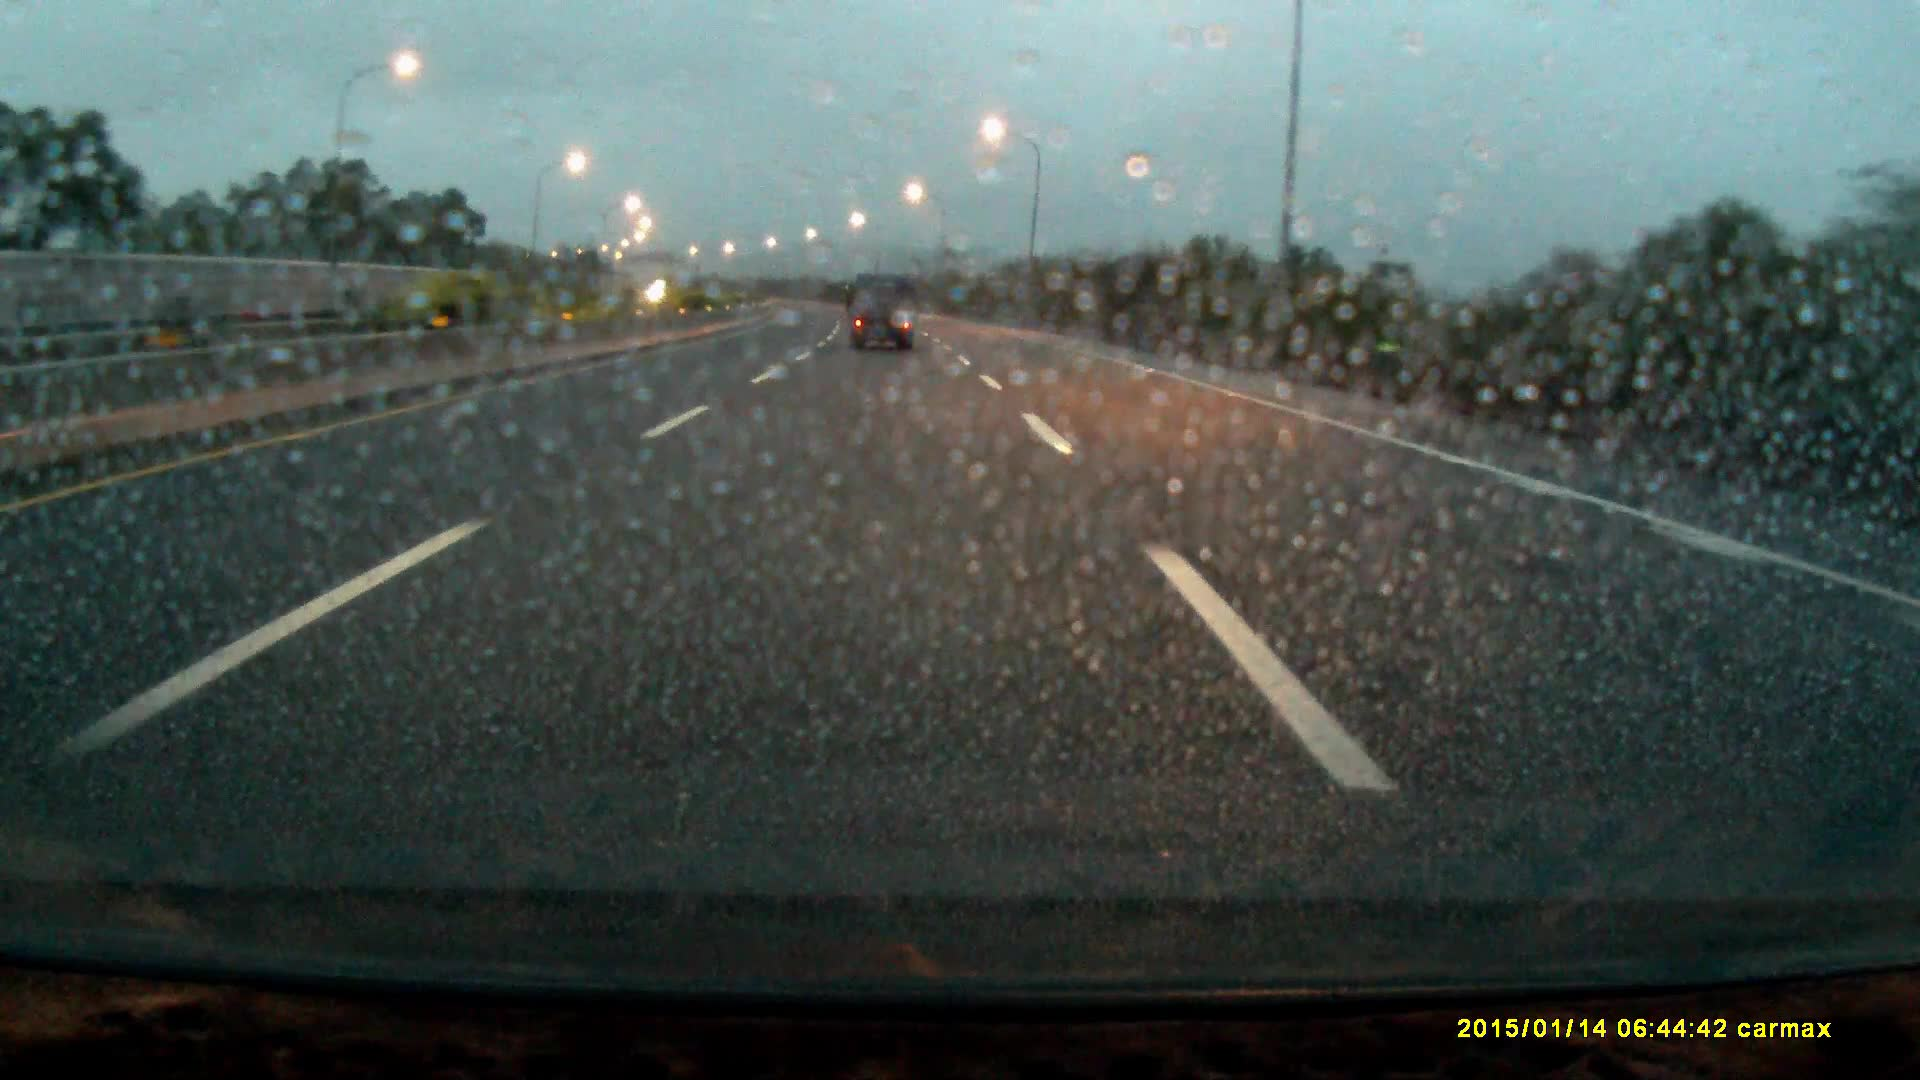vehicle: (851, 274, 915, 353)
